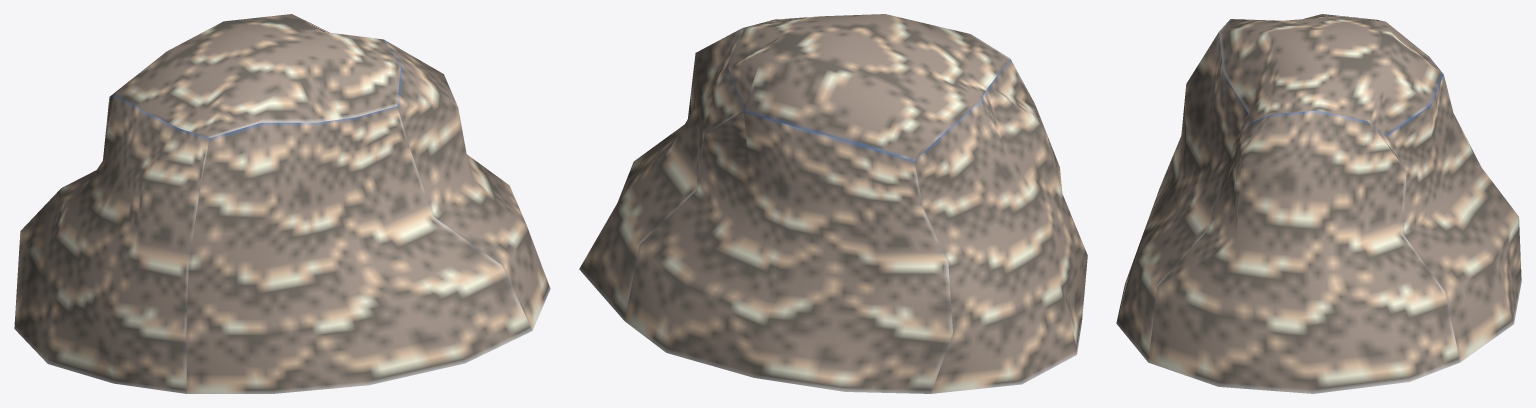
File: large_sand_Rock.fbx
3 renders of one model, left to right at view 1: azimuth 30°, elevation 25°; view 2: azimuth 150°, elevation 25°; view 3: azimuth 270°, elevation 25°, orthographic. The views are drawn at different scales.
Parts seen in each view (by area): view 1: large_sand_Rock; view 2: large_sand_Rock; view 3: large_sand_Rock.
Part boxes in pixels (x1=…): large_sand_Rock: x1=14, y1=14, x2=550, y2=393; large_sand_Rock: x1=579, y1=14, x2=1087, y2=393; large_sand_Rock: x1=1116, y1=14, x2=1521, y2=393.
Size of the model in its own units: 3.45 by 1.95 by 2.78.
